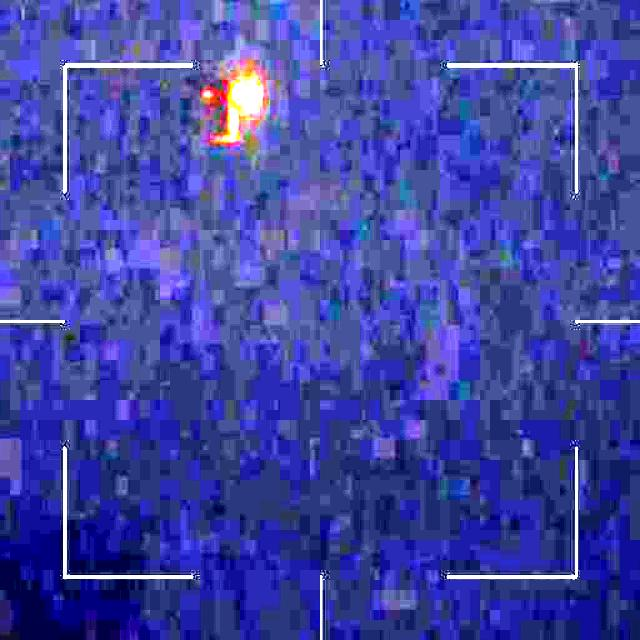bird: (192, 72, 269, 150)
